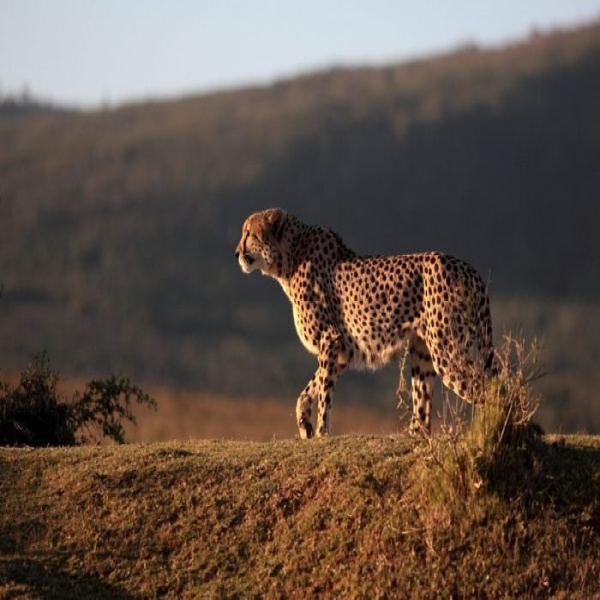Cheetah: (231, 205, 532, 444)
